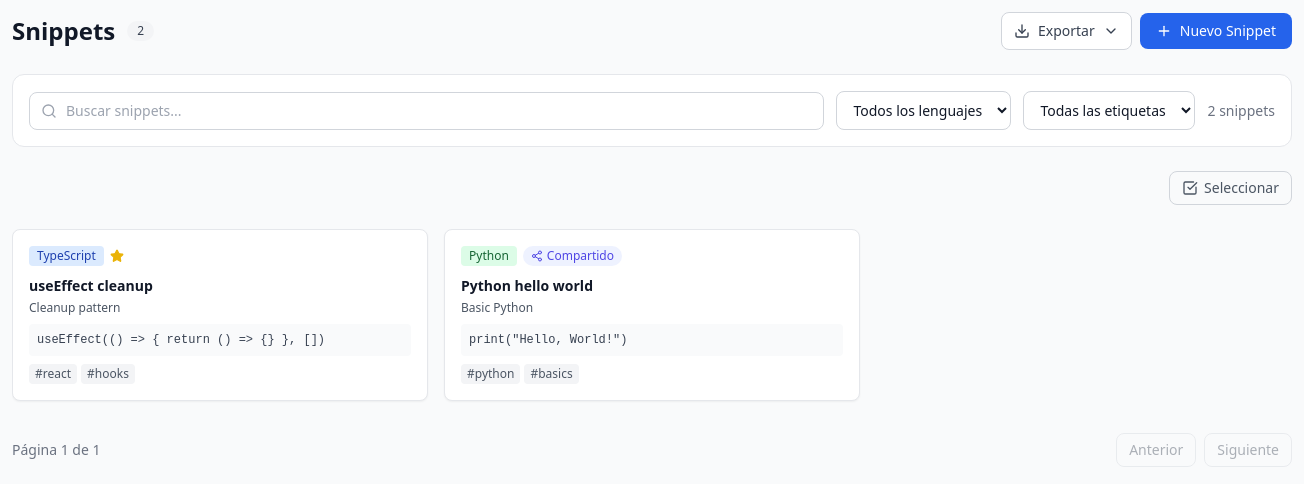
Scenario: SnippetsPage › filtra por búsqueda en título
In the field with placeholder "Buscar snippets...": point(427, 110) x1=29 y1=92 x2=824 y2=130, type "useEffect"
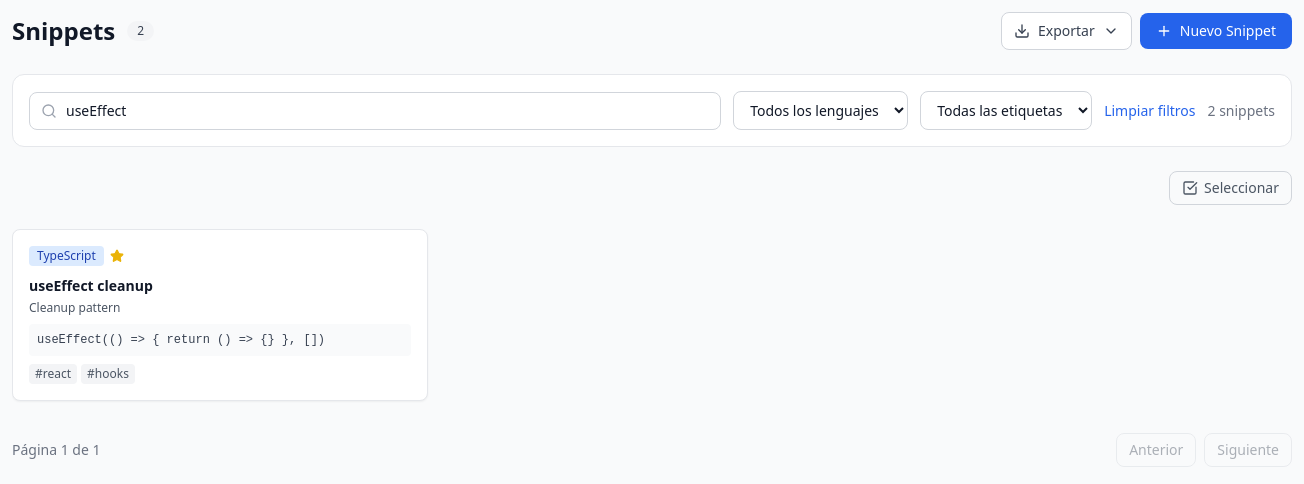
Expected: the heading "useEffect cleanup" is shown, x1=29 y1=276 x2=153 y2=295
Now the heading "Python hello world" is gone
